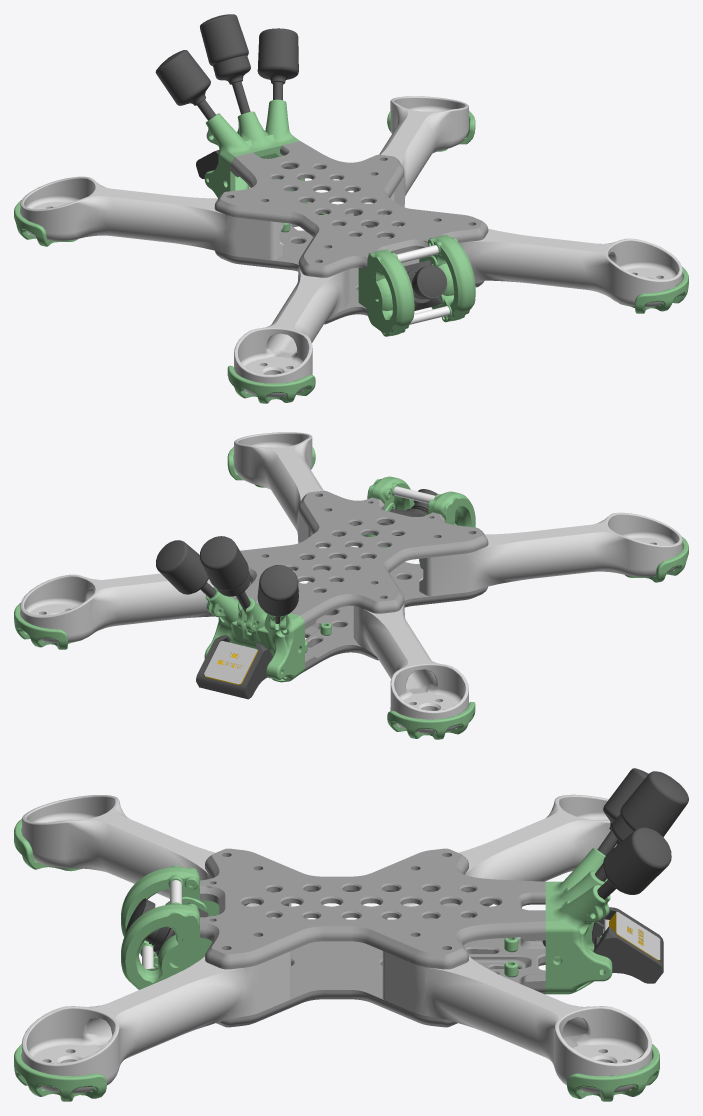
Rendered from frame.glb.
The picture shows the model from 3 angles, top to bottom: view 1: azimuth 30°, elevation 25°; view 2: azimuth 150°, elevation 25°; view 3: azimuth 270°, elevation 25°; orthographic projection. The views are drawn at different scales.
Visible parts, largest first — view 1: Leopard FPV drone v95 (×5); view 2: Leopard FPV drone v95 (×5); view 3: Leopard FPV drone v95 (×6).
Part boxes in pixels (x1,y1,x2,y2): Leopard FPV drone v95 (×5): [14, 14, 688, 403]; Leopard FPV drone v95 (×5): [14, 432, 688, 739]; Leopard FPV drone v95 (×6): [14, 768, 688, 1101].
Bounding box in the file's own units: 0.2166 × 0.0766 × 0.2264.
